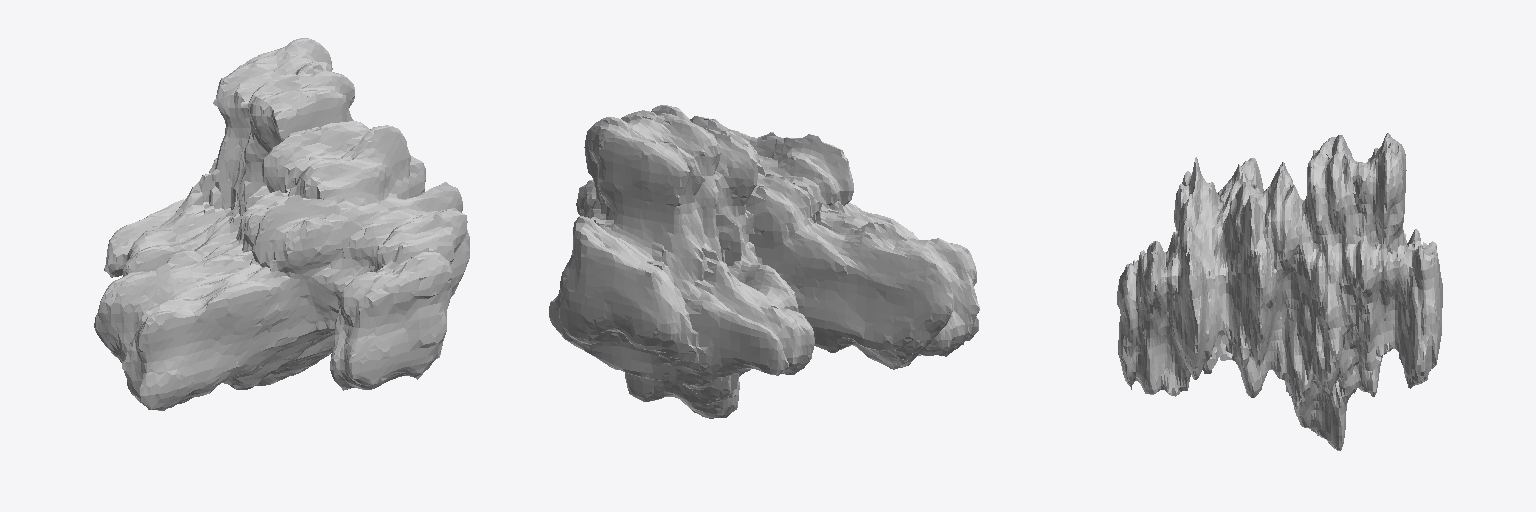
Rendered from fiancee_rock_wall_based.obj.
3 views of the same model, side by side, from view 1: azimuth 30°, elevation 25°; view 2: azimuth 150°, elevation 25°; view 3: azimuth 270°, elevation 25° (orthographic).
Visible parts, largest first — view 1: fiance_rock_wall_based_Cube.012; view 2: fiance_rock_wall_based_Cube.012; view 3: fiance_rock_wall_based_Cube.012.
Part boxes in pixels (bbox=[...]): fiance_rock_wall_based_Cube.012: bbox=[94, 38, 469, 410]; fiance_rock_wall_based_Cube.012: bbox=[549, 105, 979, 418]; fiance_rock_wall_based_Cube.012: bbox=[1117, 133, 1442, 450].
Bounding box in the file's own units: 2.53 × 2.14 × 2.06.